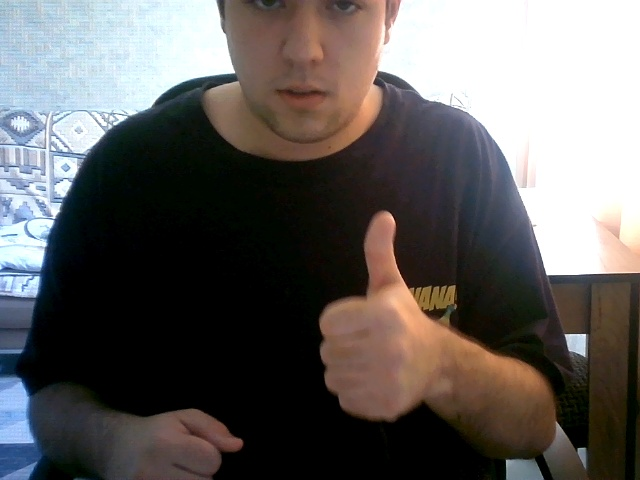good: (303, 200, 448, 433)
